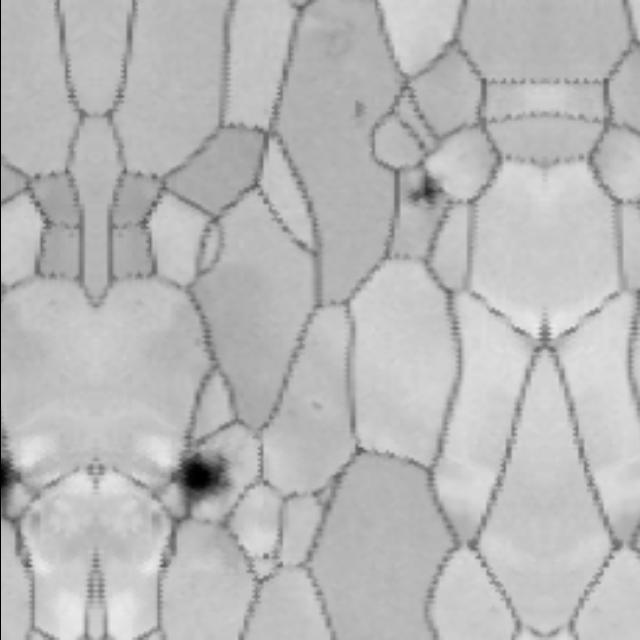good_void: (160, 443, 242, 518), (0, 446, 30, 518), (407, 167, 454, 207), (351, 100, 369, 119), (308, 400, 324, 412), (258, 551, 272, 564)
